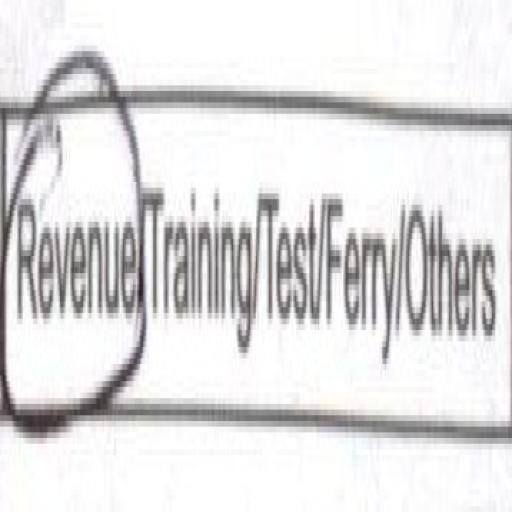check: (0, 2, 144, 457)
